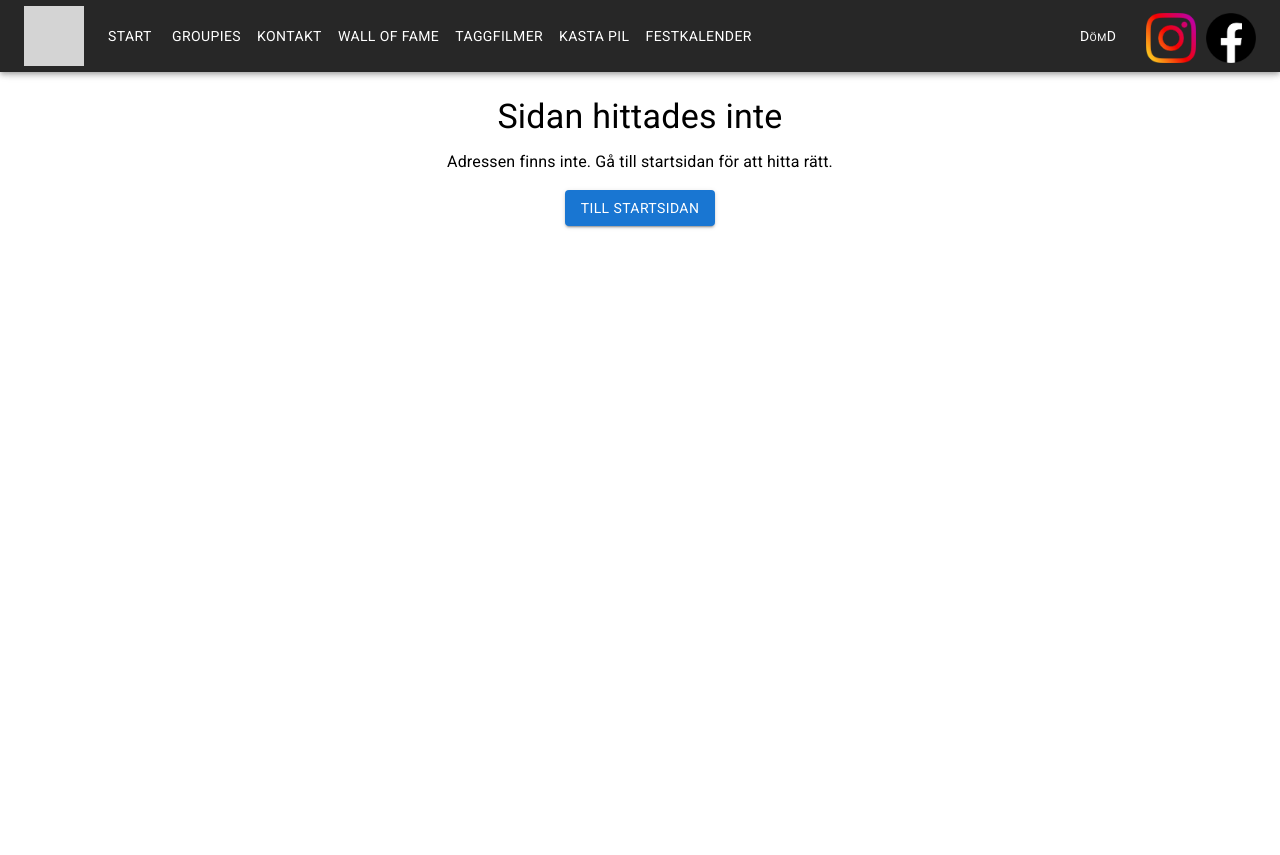
Scenario: unknown addresses show a way back to the homepage
The width and height of the screenshot is (1280, 855).
Expected: the heading "Sidan hittades inte" is shown, [497,96,783,136]
Click the link "Till startsidan": click(640, 208) [565,190,715,226]
(page scrolled)
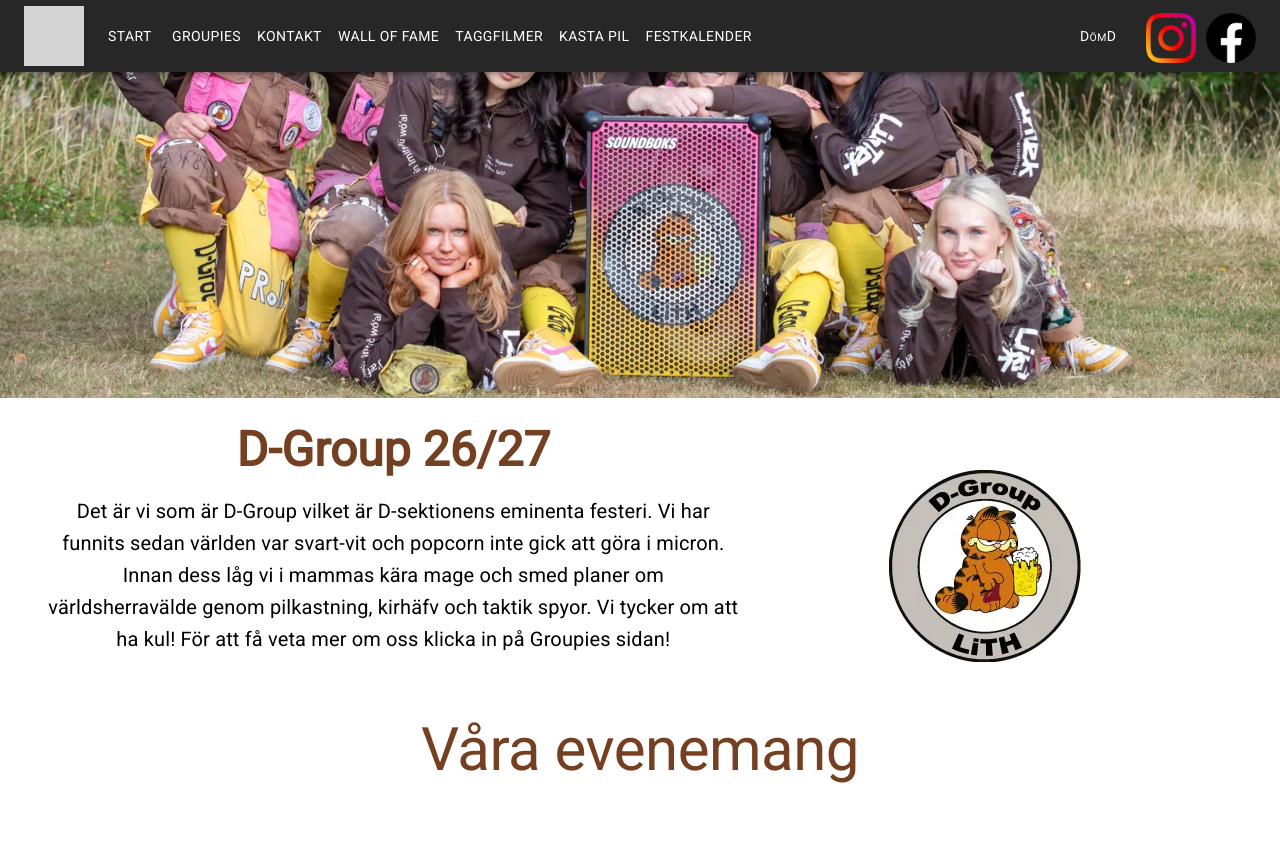
Result: the heading "D-Group 26/27" is shown at [236,421,550,478]
